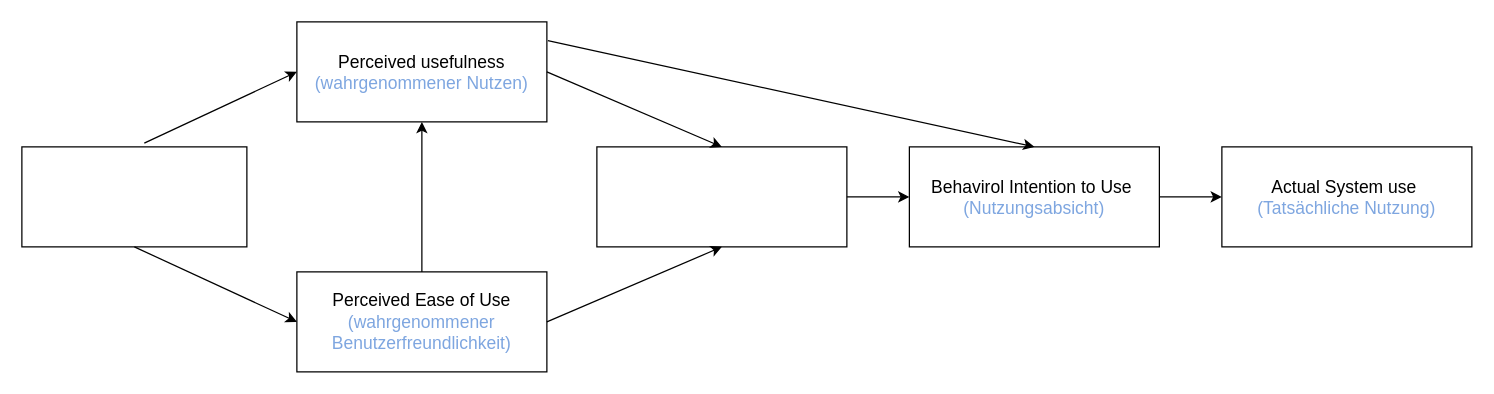
Image size: 1494x394. Some labels were removed from this diagram. Each missing label, with the box of its shape:
Attitude Toward Using (Einstellung zu Nutzung ): (596, 146, 847, 247)
External Variables (externe Variablen): (21, 146, 247, 247)
